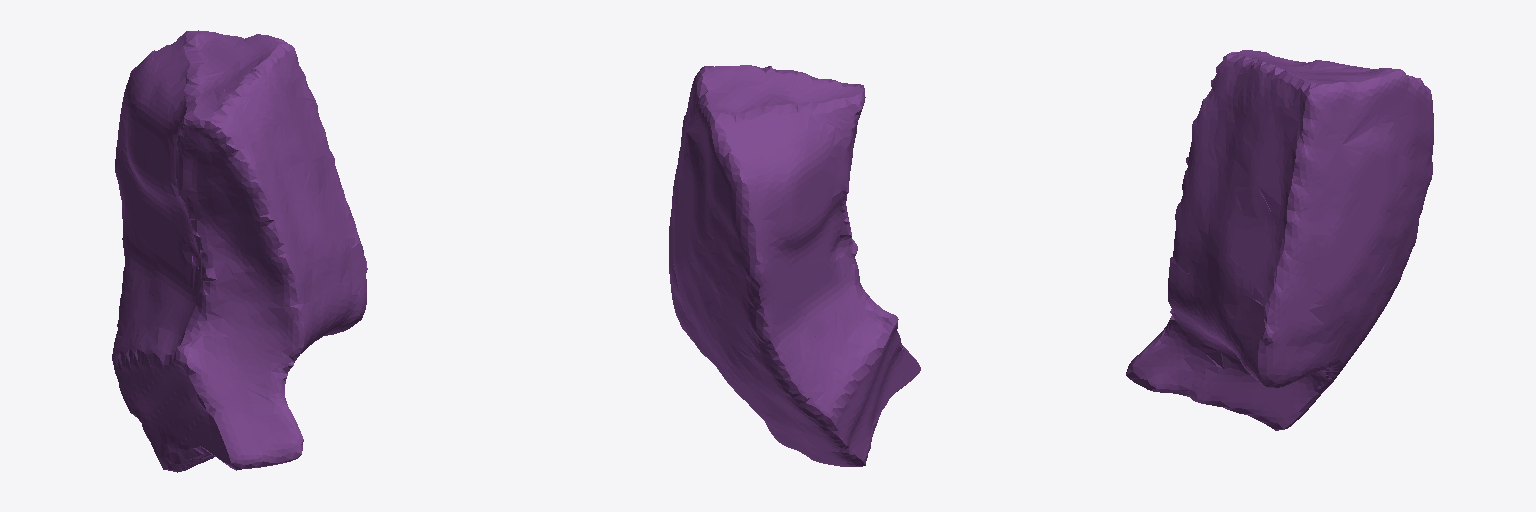
The model's file is Model_132_RH__Temporal_area_TF_(TF).obj.
3 views of the same model, side by side, from view 1: azimuth 30°, elevation 25°; view 2: azimuth 150°, elevation 25°; view 3: azimuth 270°, elevation 25° (orthographic).
Size of the model in its own units: 2.95 by 5.19 by 3.78.